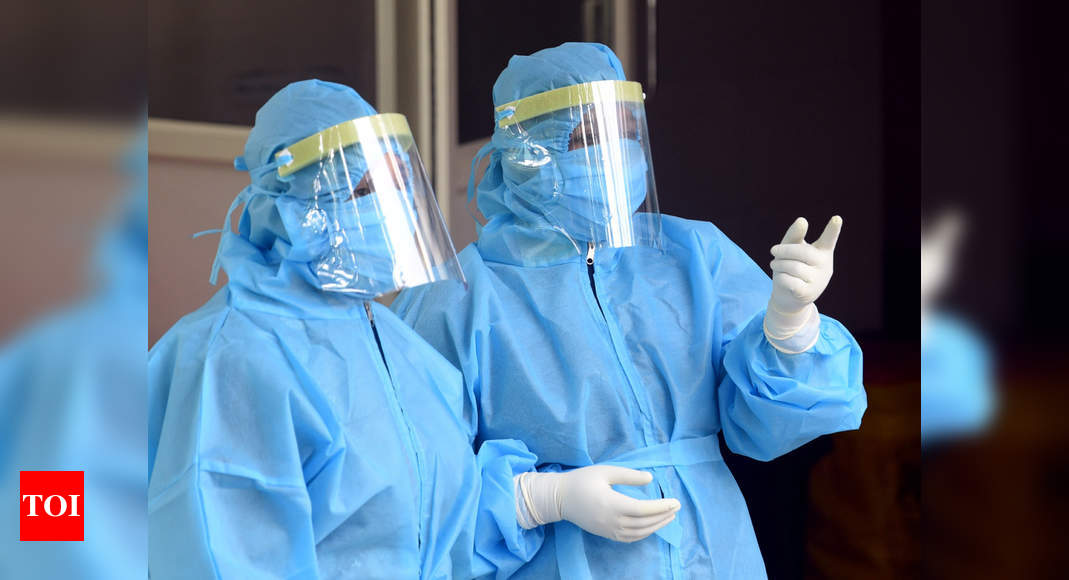Coverall: (446, 211, 769, 580), (149, 287, 476, 580)
Gloves: (496, 462, 681, 547), (766, 206, 845, 356)
with_mask: (330, 162, 419, 287), (555, 115, 653, 224)
